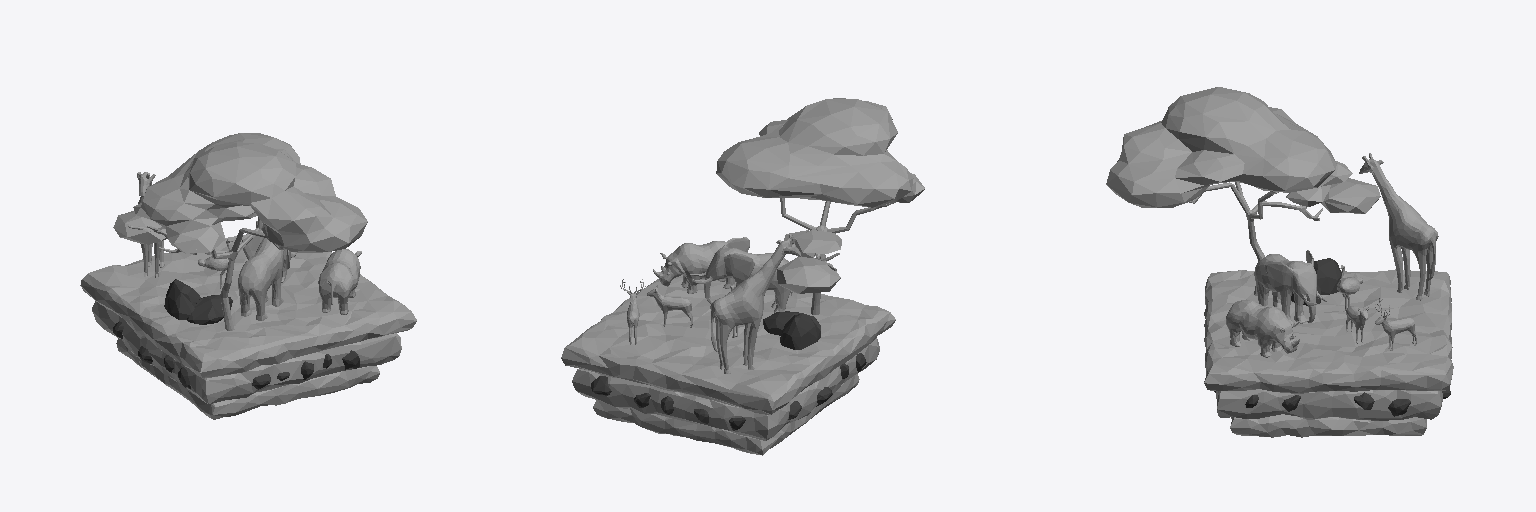
File: Animals_lp.obj
The picture shows the model from 3 angles: view 1: azimuth 30°, elevation 25°; view 2: azimuth 150°, elevation 25°; view 3: azimuth 270°, elevation 25°; orthographic projection.
Visible parts, largest first — view 1: Plane.008_Plane, Plane.003, Plane.001_Plane.013, Icosphere.000_Icosphere.007, Plane.002_Plane.007, Icosphere.002_Icosphere.008, Icosphere.004_Icosphere.010; view 2: Plane.008_Plane, Plane.002_Plane.007, Plane.003, Plane.001_Plane.013, Icosphere.000_Icosphere.007, Icosphere.001_Icosphere.006, Plane.010_Plane.032, Icosphere.004_Icosphere.010; view 3: Plane.008_Plane, Plane.002_Plane.007, Plane.003, Plane.001_Plane.013, Icosphere.000_Icosphere.007, Icosphere.003_Icosphere.009, Plane.014_Plane.016.
Boxes of the visible parts, x1,y1,x2,y2 form: Plane.008_Plane: [80, 133, 416, 419]; Plane.003: [238, 230, 296, 320]; Plane.001_Plane.013: [318, 249, 361, 314]; Icosphere.000_Icosphere.007: [164, 279, 232, 324]; Plane.002_Plane.007: [137, 172, 164, 277]; Icosphere.002_Icosphere.008: [252, 350, 359, 389]; Icosphere.004_Icosphere.010: [113, 321, 190, 388]; Plane.008_Plane: [561, 98, 924, 455]; Plane.002_Plane.007: [710, 234, 801, 373]; Plane.003: [690, 237, 792, 312]; Plane.001_Plane.013: [653, 241, 735, 293]; Icosphere.000_Icosphere.007: [763, 311, 820, 349]; Icosphere.001_Icosphere.006: [591, 376, 745, 430]; Plane.010_Plane.032: [647, 285, 692, 327]; Icosphere.004_Icosphere.010: [788, 353, 866, 419]; Plane.008_Plane: [1106, 87, 1453, 437]; Plane.002_Plane.007: [1359, 153, 1438, 300]; Plane.003: [1254, 250, 1326, 324]; Plane.001_Plane.013: [1226, 300, 1299, 357]; Icosphere.000_Icosphere.007: [1291, 258, 1341, 305]; Icosphere.003_Icosphere.009: [1245, 392, 1410, 416]; Plane.014_Plane.016: [1375, 298, 1416, 350].
Bounding box in the file's own units: 79.07 × 82.65 × 95.47.